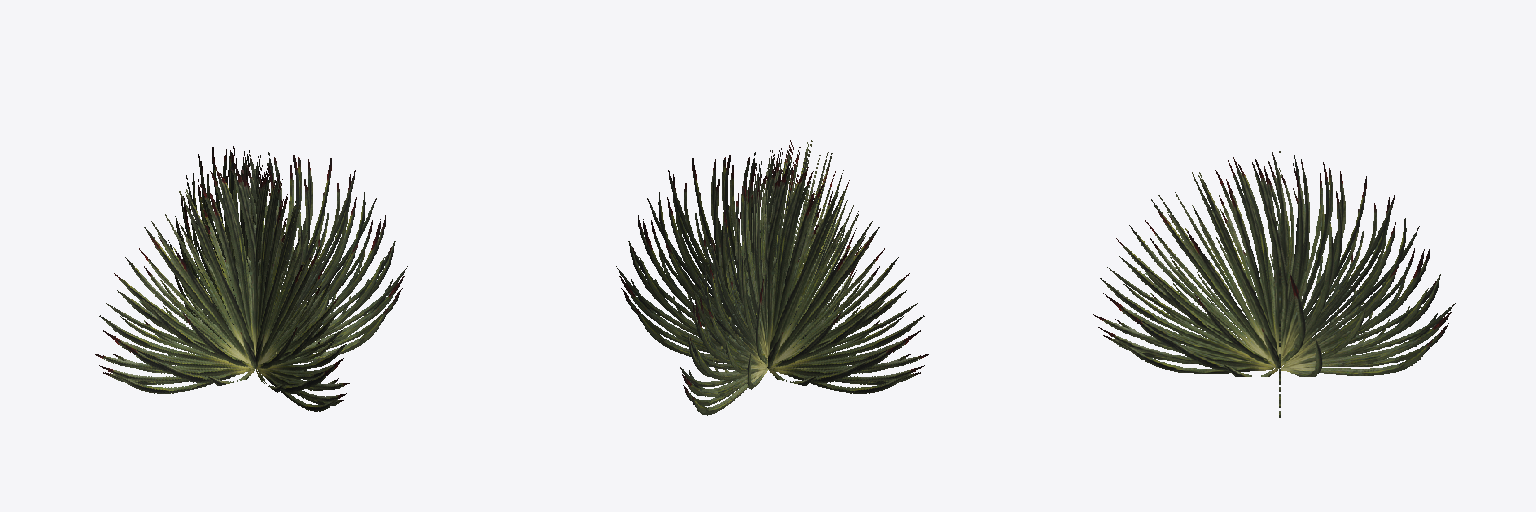
The picture shows the model from 3 angles: view 1: azimuth 30°, elevation 25°; view 2: azimuth 150°, elevation 25°; view 3: azimuth 270°, elevation 25°; orthographic projection.
Visible parts, largest first — view 1: CreateFan; view 2: CreateFan; view 3: CreateFan.
Boxes of the visible parts, box(x1,y1,x2,y2) form: CreateFan: box(95, 146, 407, 411); CreateFan: box(616, 140, 928, 415); CreateFan: box(1093, 151, 1455, 417).
Size of the model in its own units: 2.19 by 1.5 by 2.19.
Materials: 1 (1 with a texture image).